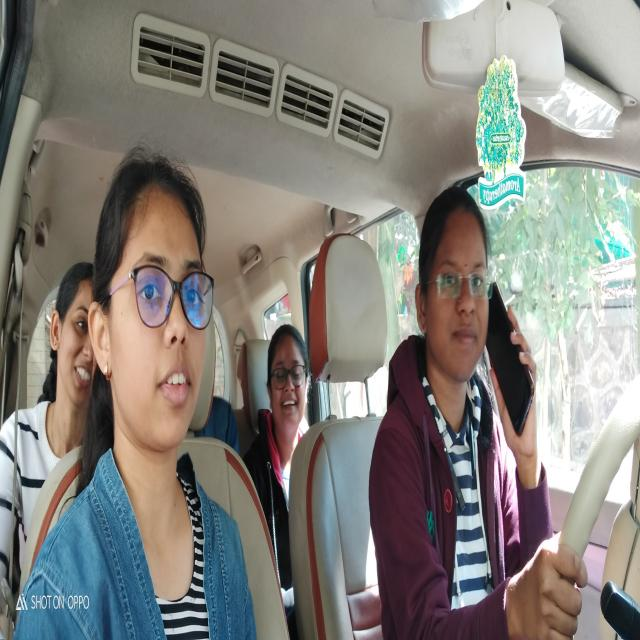mobile: (477, 274, 537, 439)
person: (81, 118, 221, 469), (411, 171, 501, 389), (47, 255, 94, 408), (260, 316, 313, 445)
